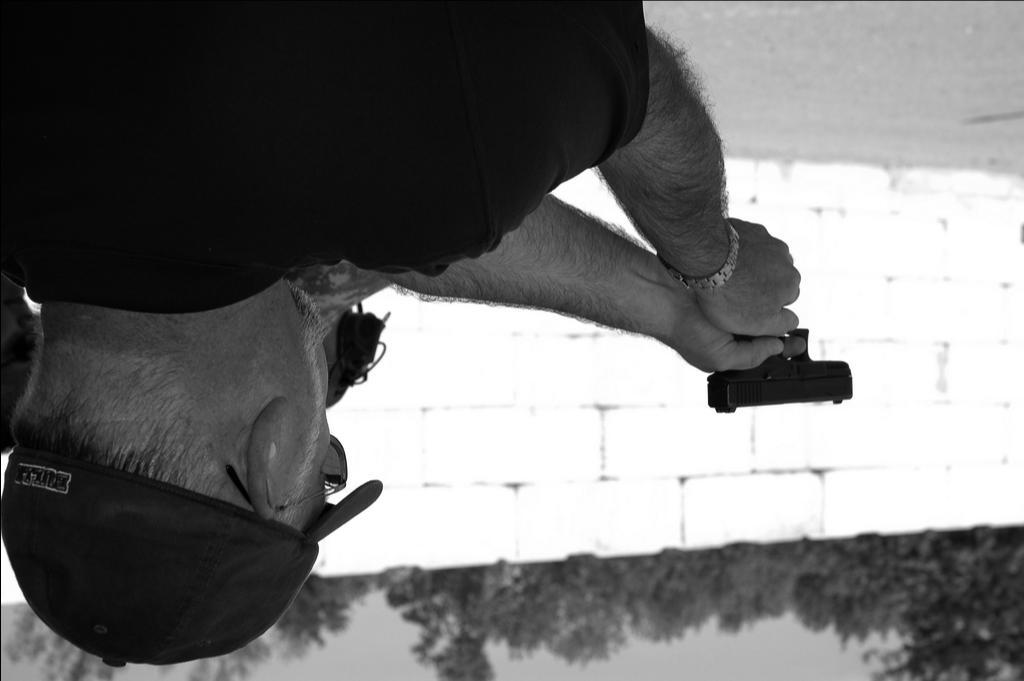gun: (664, 234, 860, 418)
